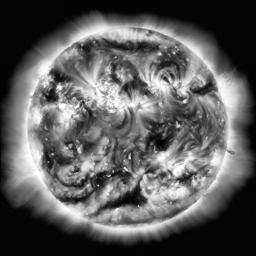solar flares: (81, 75, 124, 111), (57, 92, 82, 129), (143, 72, 172, 97), (110, 29, 153, 44), (155, 183, 189, 200), (151, 150, 174, 170), (128, 95, 148, 116), (169, 161, 186, 180), (175, 76, 189, 98), (181, 153, 200, 168)
sunspots: (109, 190, 145, 210), (102, 39, 158, 51), (149, 124, 170, 150), (158, 53, 182, 73), (42, 147, 59, 169), (82, 42, 95, 64), (194, 82, 215, 94), (89, 173, 105, 187), (54, 73, 75, 83), (115, 170, 130, 182), (82, 141, 98, 152), (46, 89, 57, 104)
